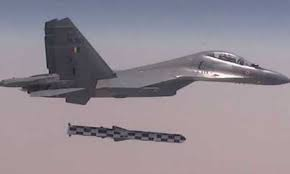maybay_muctieu: (7, 21, 289, 111)
ten_lua: (62, 122, 184, 148)
